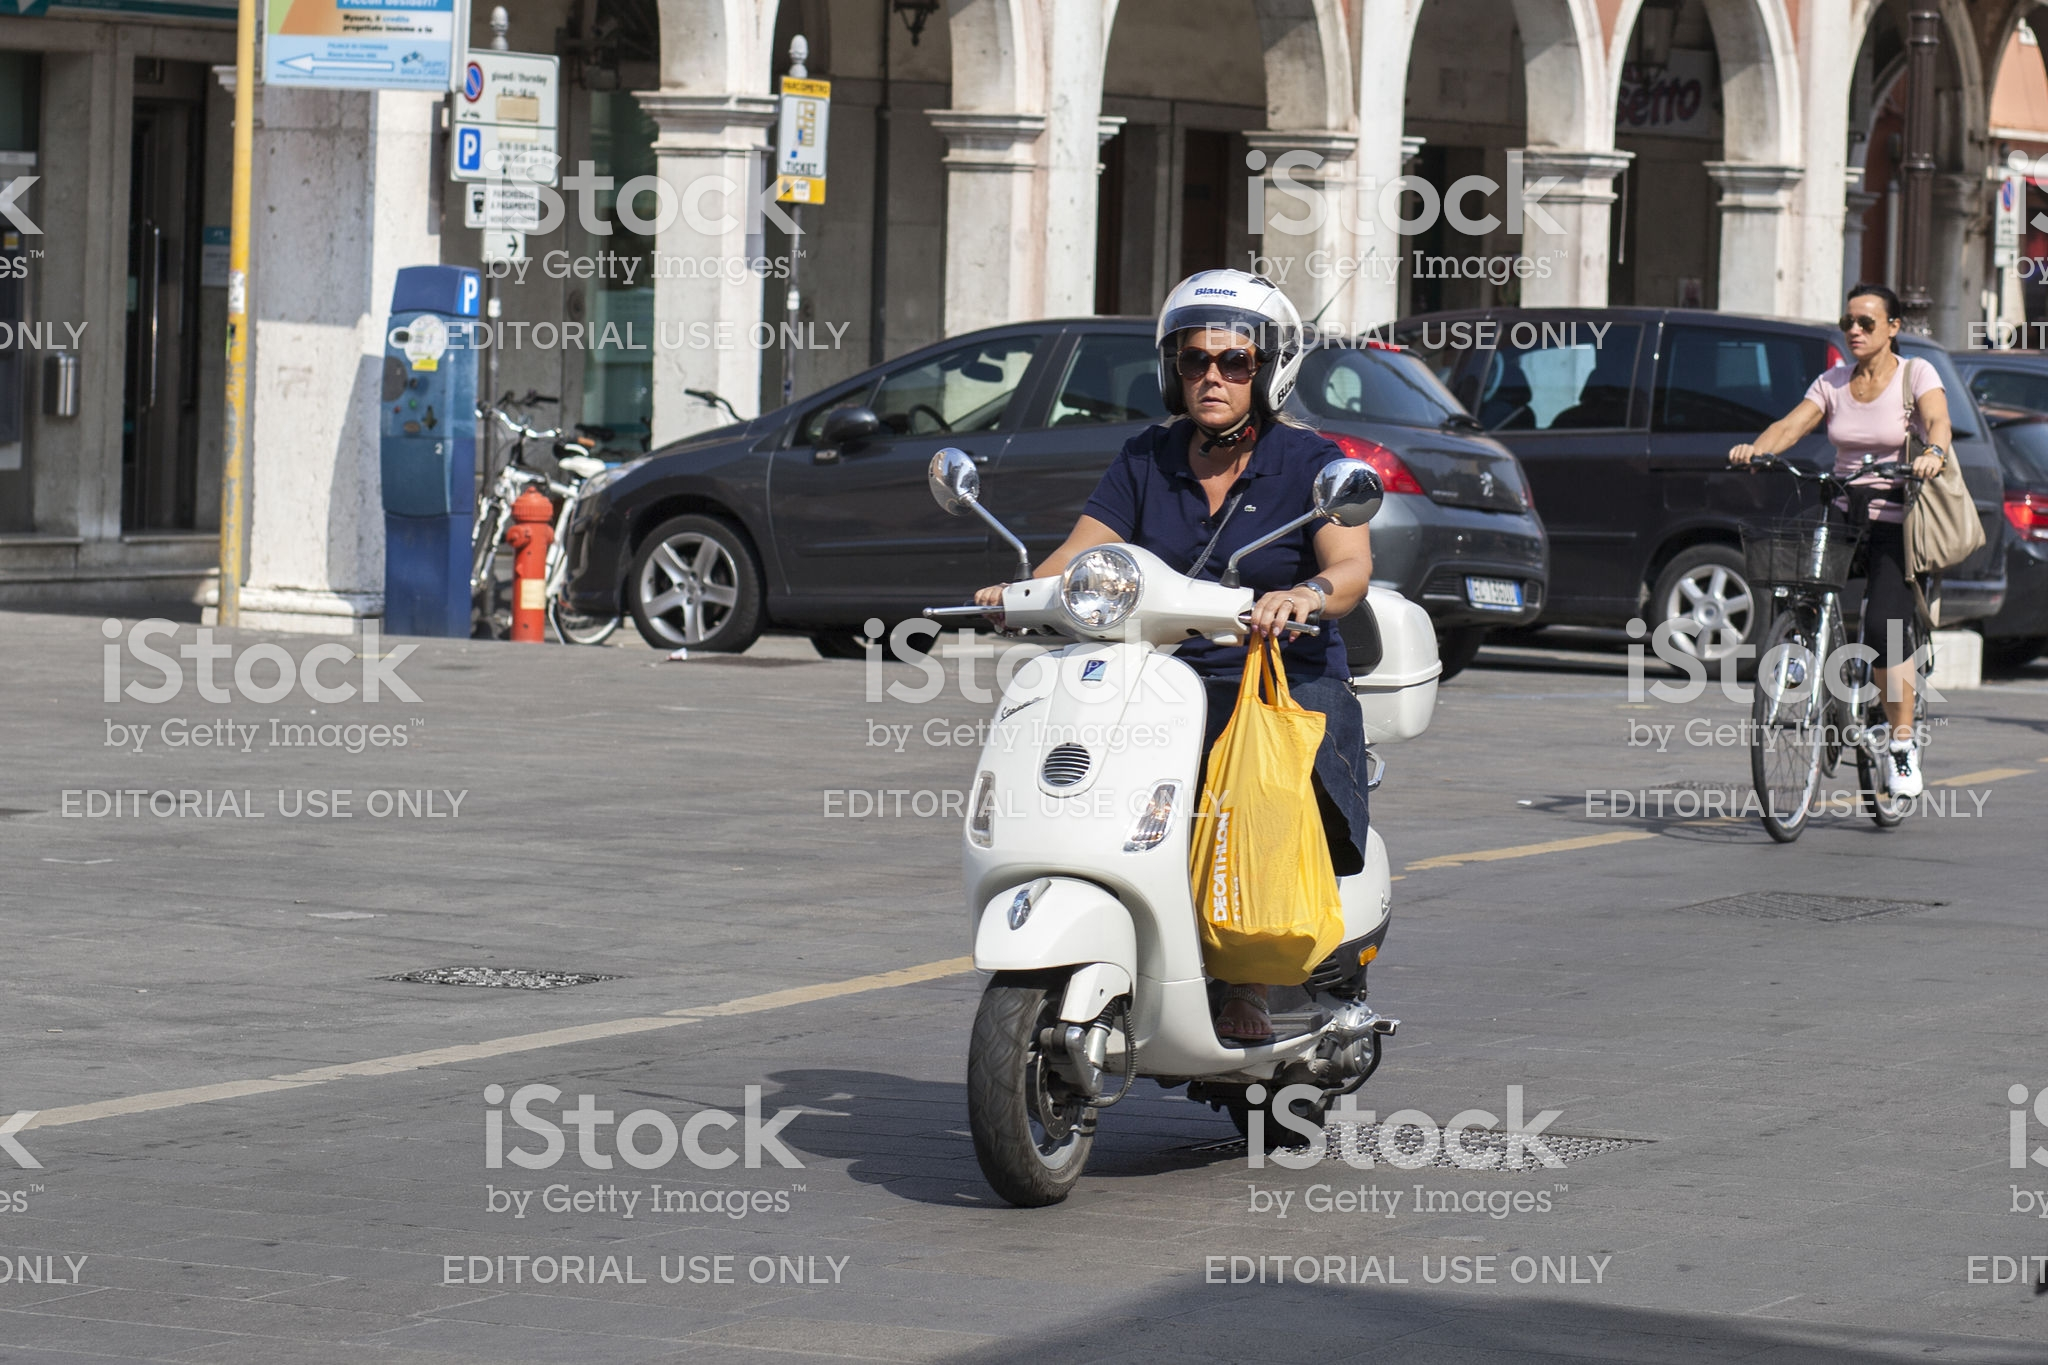helmet: (1131, 273, 1323, 417)
